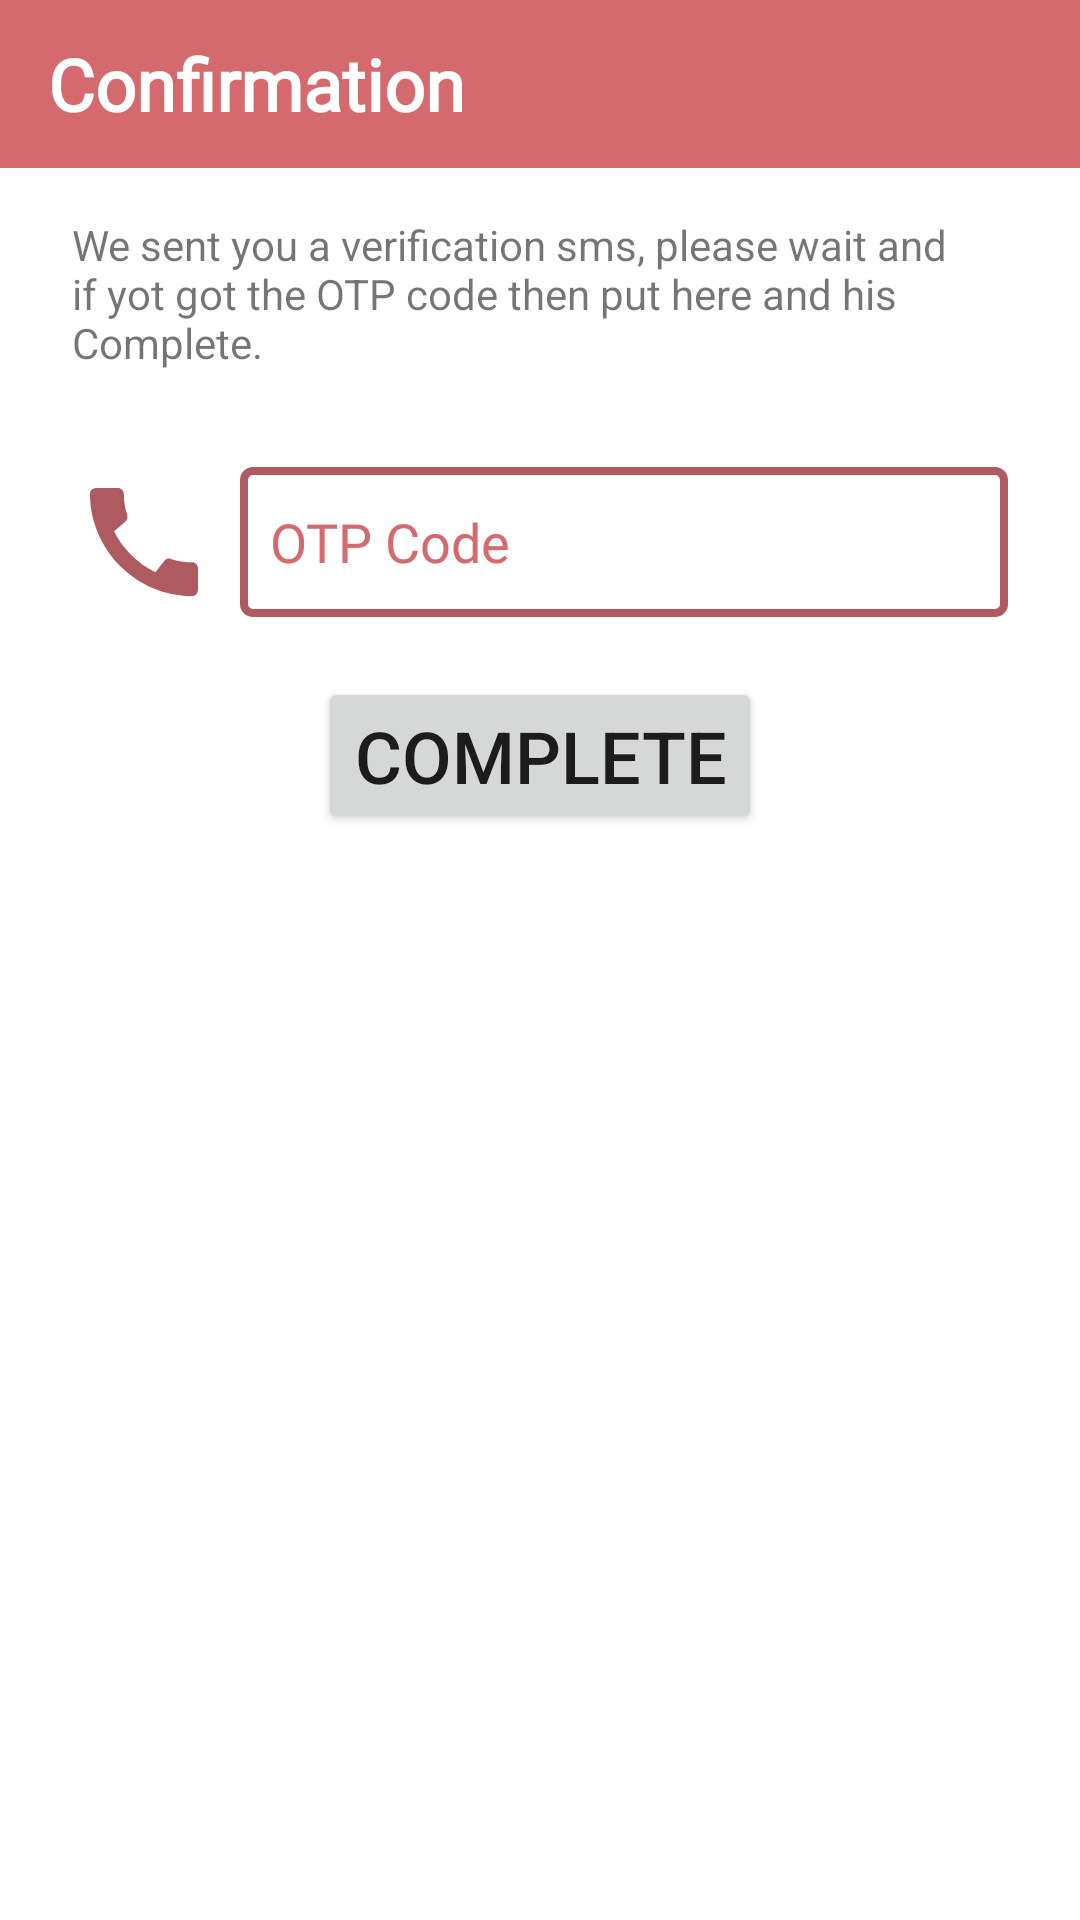

Named icons in this screenshot (1080 × 1920) and their bounding boxes, (x1, y1, x2, y2):
call: (90, 488, 198, 596)
